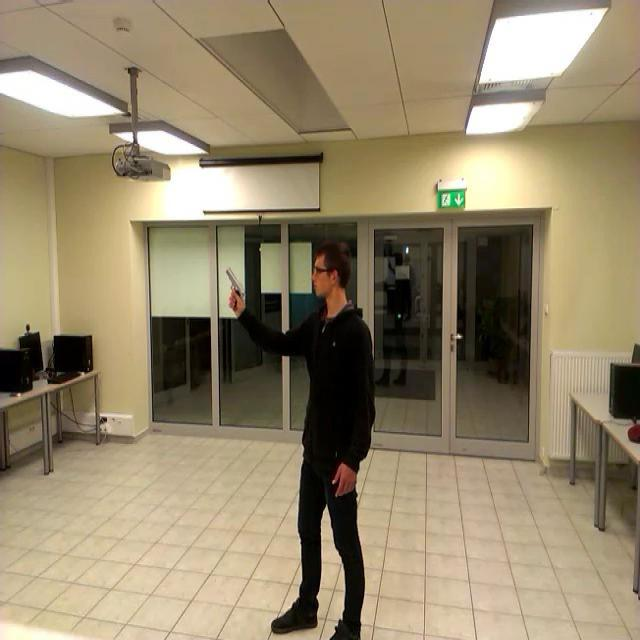weapon: (226, 270, 244, 312)
